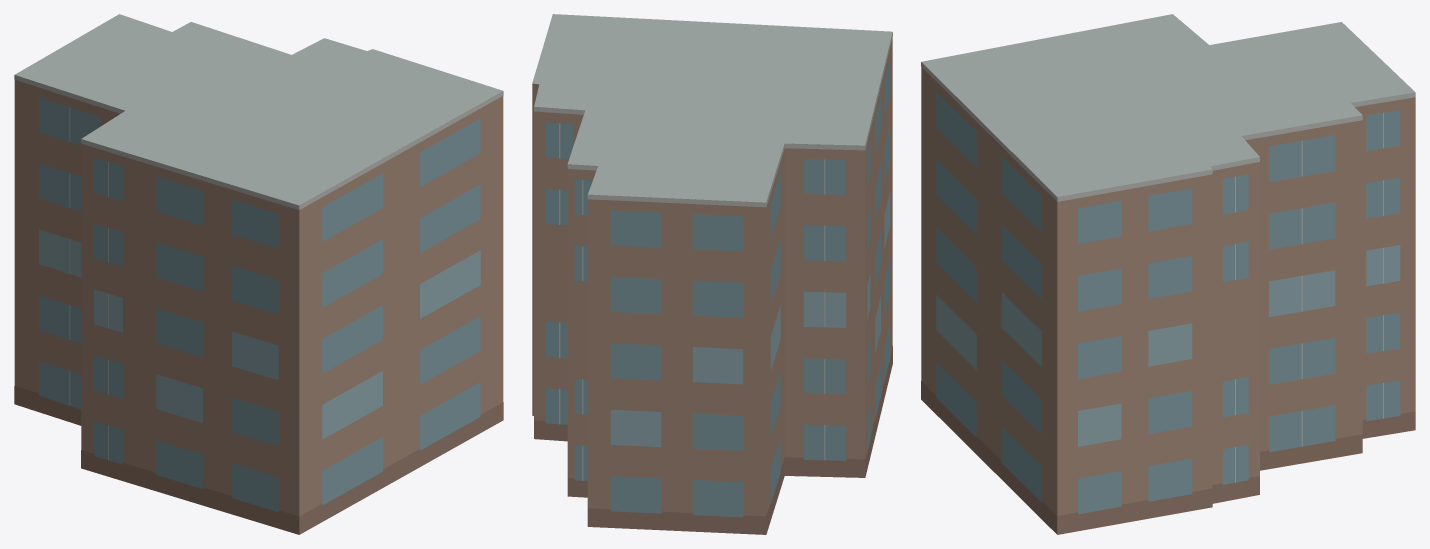
File: survey-upis-32684005.glb
3 renders of one model, left to right at view 1: azimuth 30°, elevation 25°; view 2: azimuth 150°, elevation 25°; view 3: azimuth 270°, elevation 25°, orthographic. The views are drawn at different scales.
Parts seen in each view (by area): view 1: survey-upis-32684005.tmp; view 2: survey-upis-32684005.tmp; view 3: survey-upis-32684005.tmp.
Boxes of the visible parts, x1,y1,x2,y2 form: survey-upis-32684005.tmp: (14, 14, 503, 534); survey-upis-32684005.tmp: (532, 14, 892, 534); survey-upis-32684005.tmp: (921, 14, 1415, 534).
Bounding box in the file's own units: 19.95 × 17.15 × 22.77.
